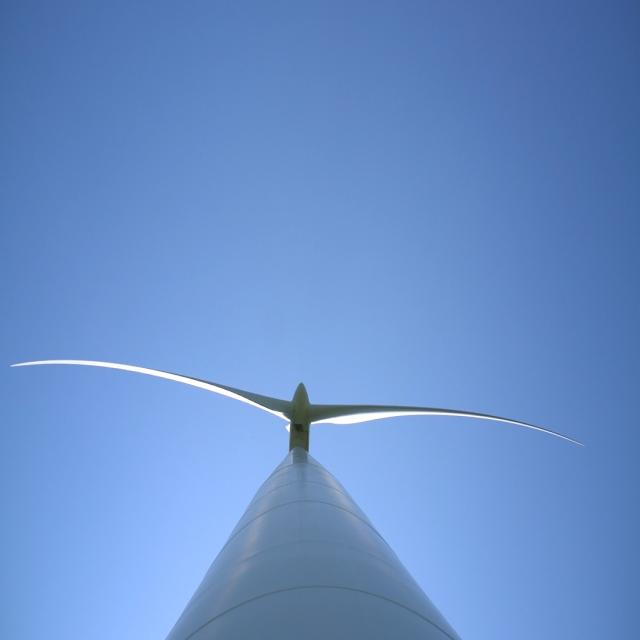blade 1: (271, 422, 292, 450)
blade 2: (6, 354, 278, 414)
blade 3: (324, 387, 589, 465)
